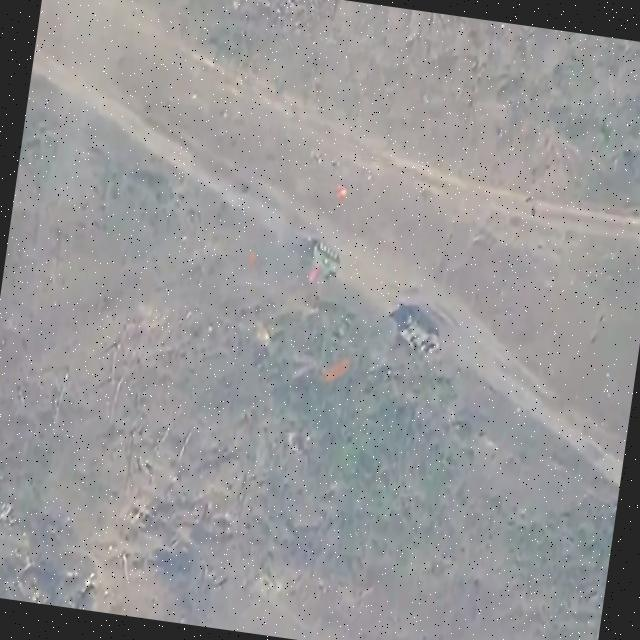AIFV: (392, 300, 449, 361)
APC: (299, 235, 347, 286)
